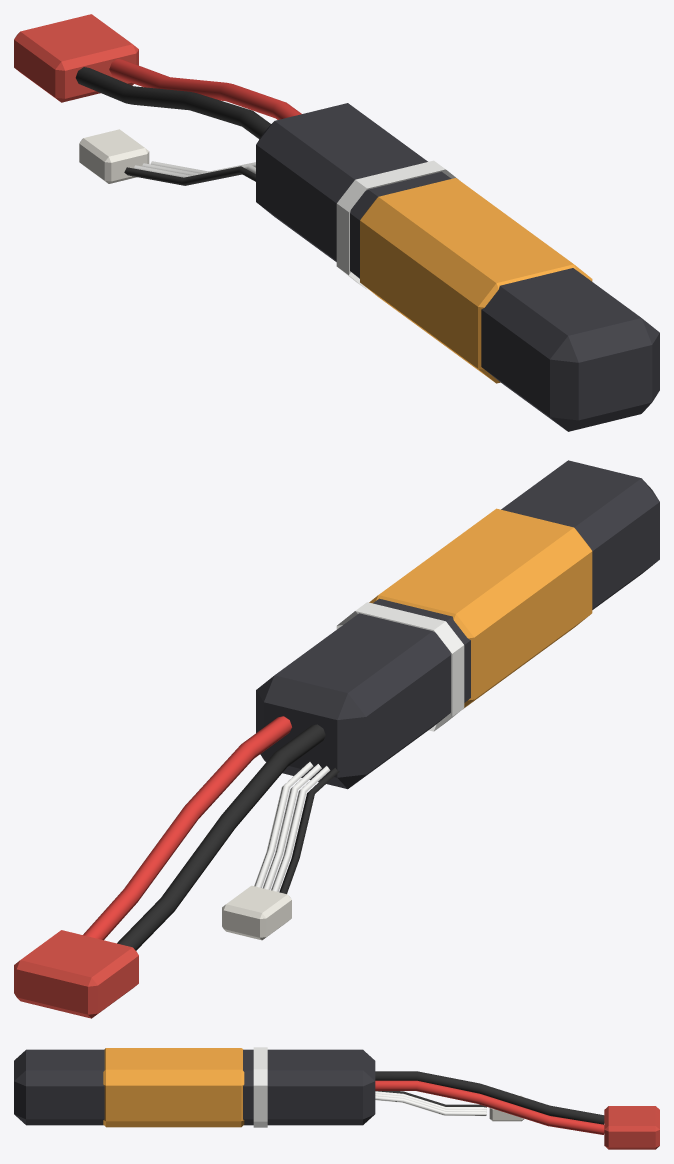
File: lipoBattery.glb
3 renders of one model, top to bottom at view 1: azimuth 30°, elevation 25°; view 2: azimuth 150°, elevation 25°; view 3: azimuth 270°, elevation 25°, orthographic. The views are drawn at different scales.
Visible parts, largest first — view 1: Lipo; view 2: Lipo; view 3: Lipo.
Boxes of the visible parts, x1,y1,x2,y2 form: Lipo: (14, 14, 659, 431); Lipo: (14, 460, 659, 1018); Lipo: (14, 1047, 659, 1149).
Size of the model in its own units: 0.0289 by 0.0258 by 0.186.
